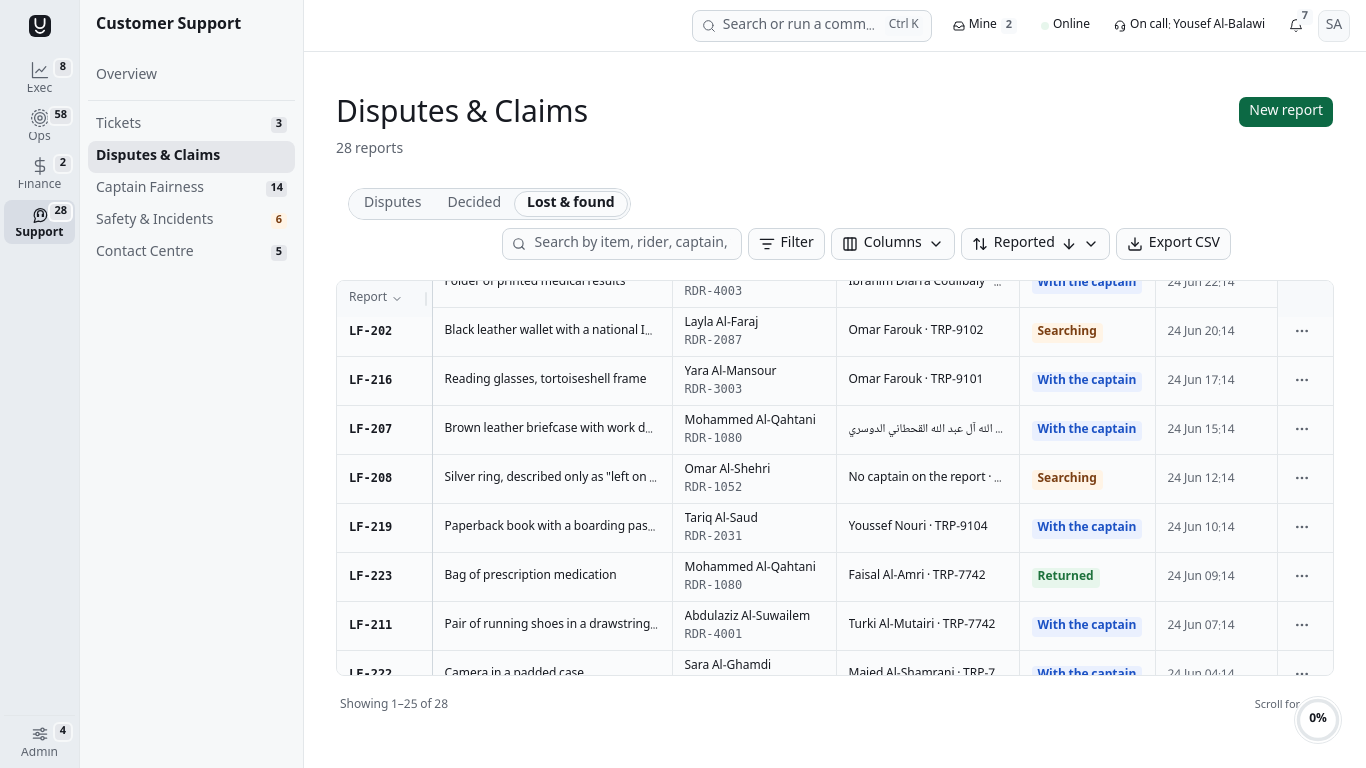
Test: §11.2 — a refused action is disabled in place and says why › refuses the captain step on a report with no captain, in place
(page scrolled)
Click the button named "More actions for LF-208". click: (1302, 478)
box: [1290,466,1314,490]
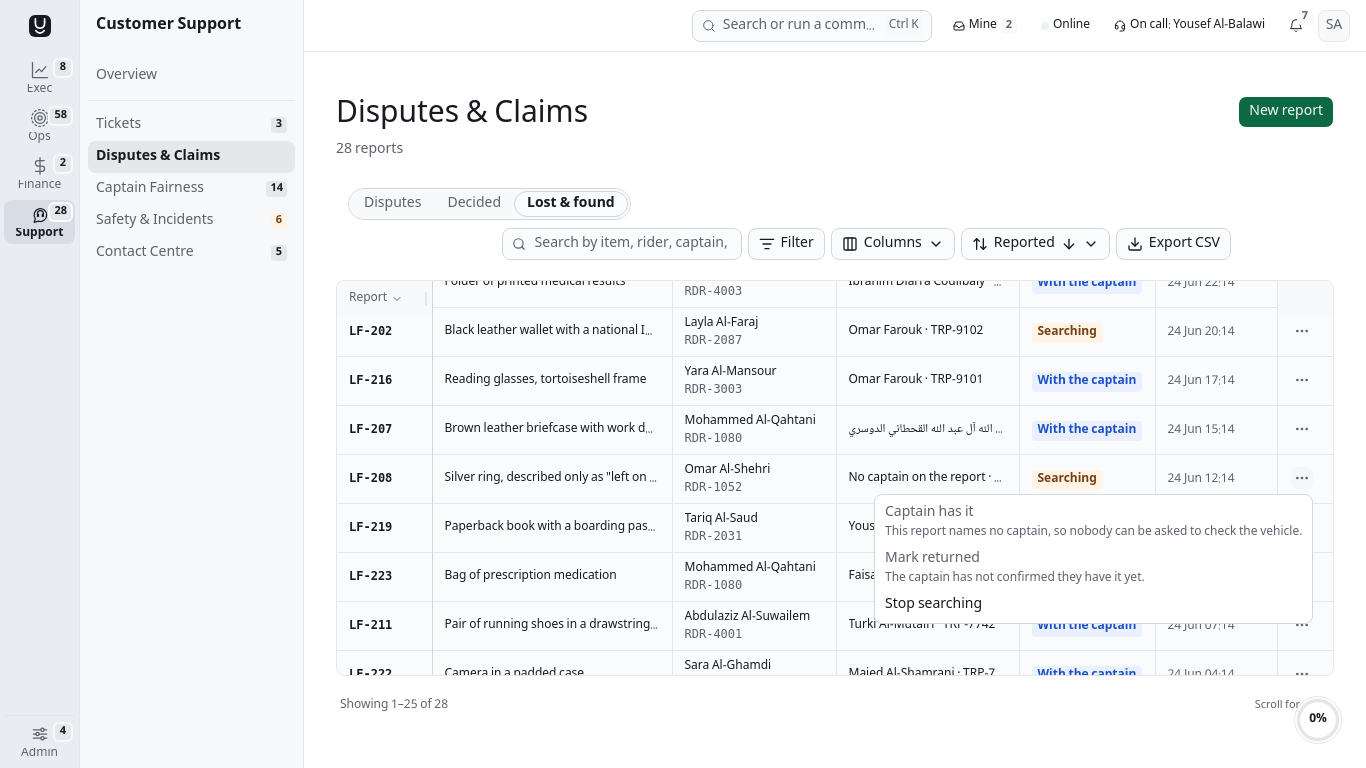
Expected: the text "This report names no captain, so nobody can be asked to check the vehicle." is shown, [885,525,1302,541]
